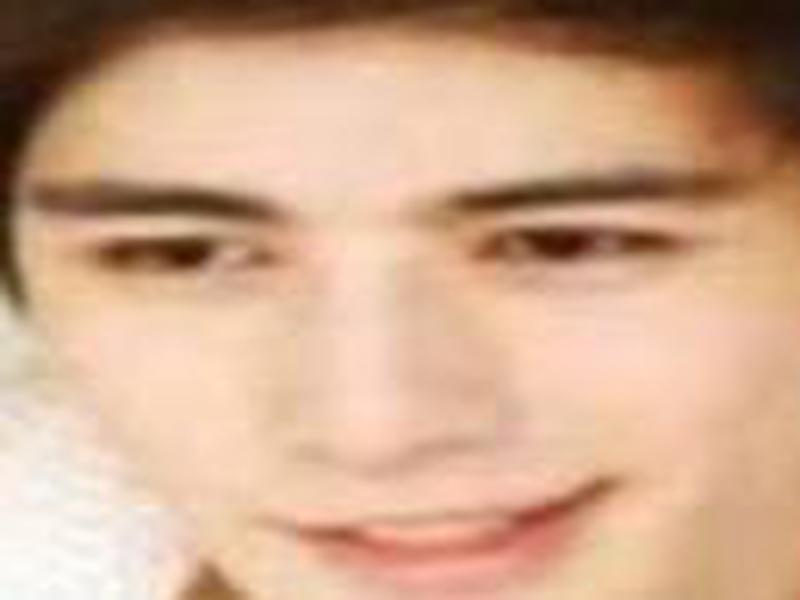without_mask: (21, 85, 795, 600)
